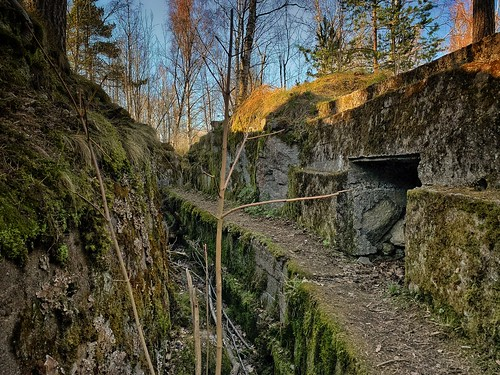building: (250, 38, 500, 366)
vegetation: (71, 1, 438, 121)
